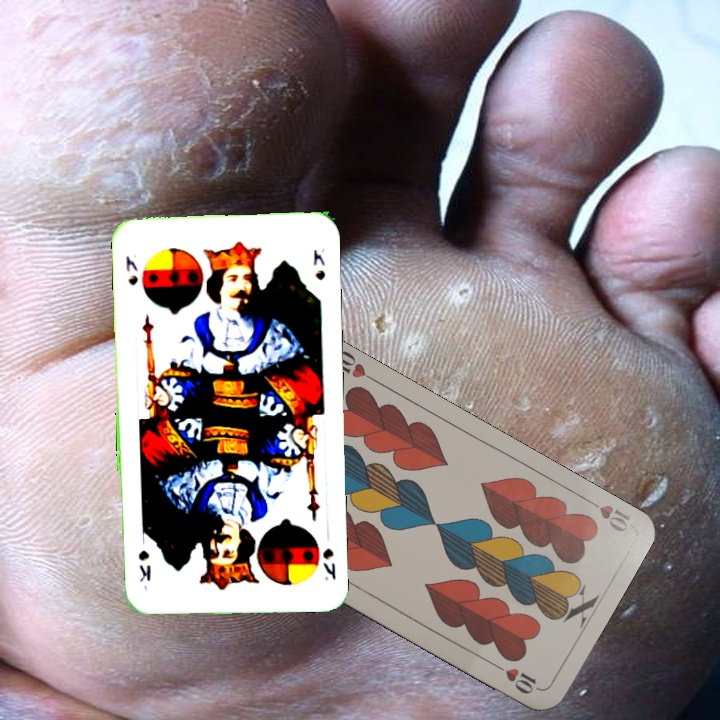H10: (580, 493, 634, 535)
SK: (319, 544, 339, 583), (122, 252, 140, 288)
